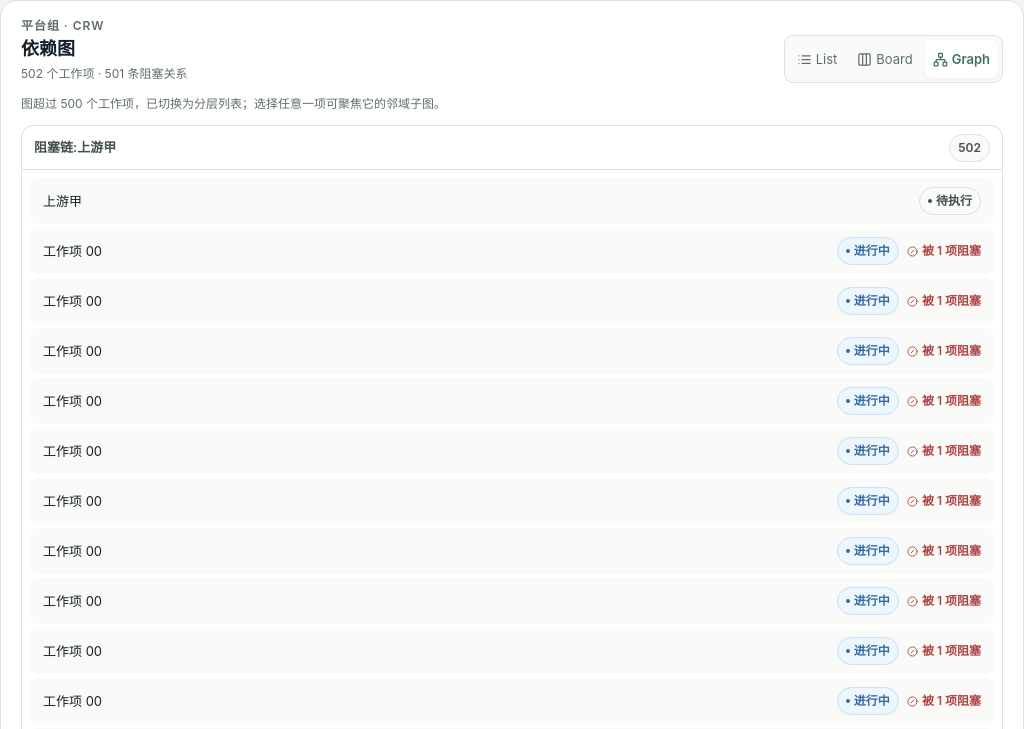
Test: WorkGraphWorkspace › degrades to the hierarchy list beyond 500 nodes and focuses a subgraph from a row
This screenshot has width=1024, height=729.
Click the button "上游甲 待执行" at (63, 201), box 30,178 -> 994,224
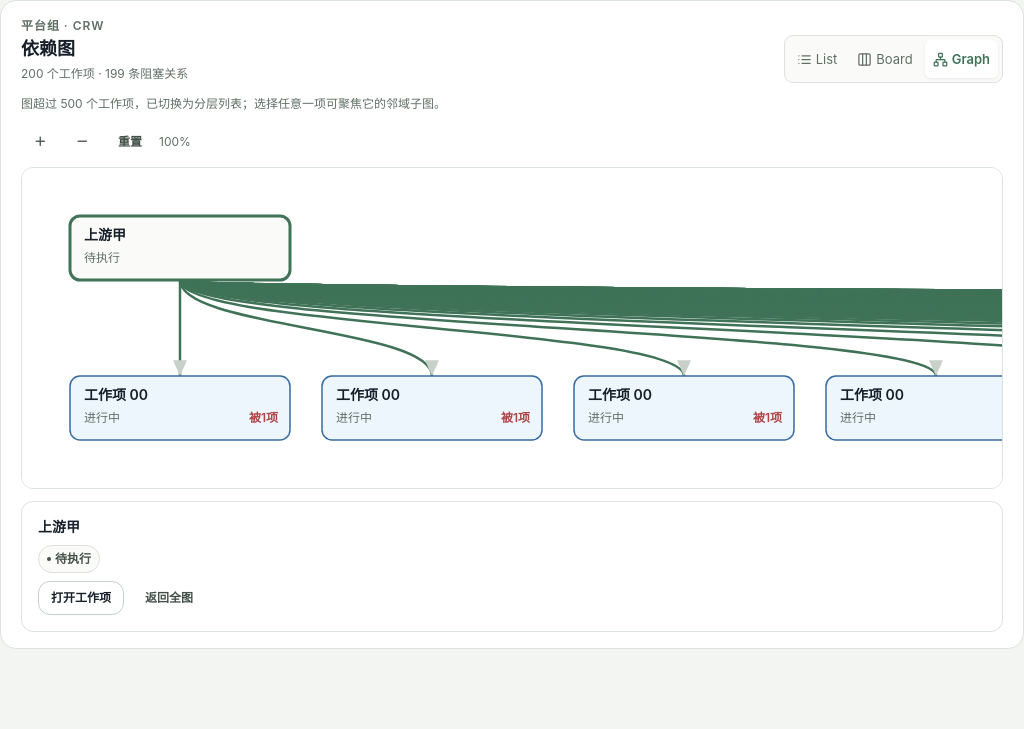
Expected: the element with class "graph-canvas" is shown, 21,125 -> 1003,489
Expected: the text "返回全图" is shown, 132,581 -> 206,615
